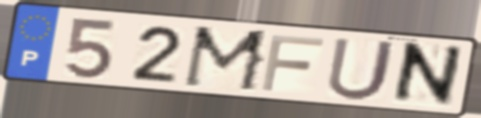2: (132, 24, 186, 84)
5: (62, 15, 121, 80)
F: (258, 32, 327, 93)
M: (179, 24, 273, 94)
N: (387, 40, 467, 109)
U: (323, 35, 400, 103)
